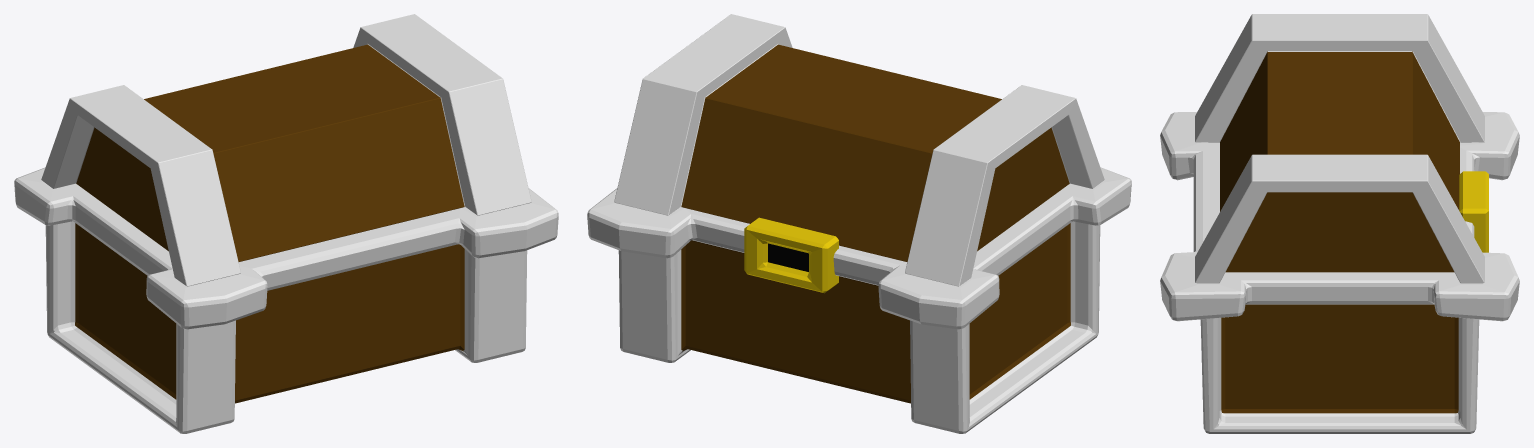
Rendered from chest.fbx.
3 renders of one model, left to right at view 1: azimuth 30°, elevation 25°; view 2: azimuth 150°, elevation 25°; view 3: azimuth 270°, elevation 25°, orthographic.
Visible parts, largest first — view 1: chestTop, chest bottom; view 2: chestTop, chest bottom, Cube; view 3: chestTop, chest bottom, Cube.
Part boxes in pixels (x1,y1,x2,y2): chestTop: (41,14,531,286); chest bottom: (14,167,558,433); chestTop: (614,14,1104,286); chest bottom: (587,167,1131,433); Cube: (744,217,838,293); chestTop: (1195,14,1484,283); chest bottom: (1160,112,1519,433); Cube: (1459,171,1488,252).
Bounding box in the file's own units: 190 × 123 × 157.
